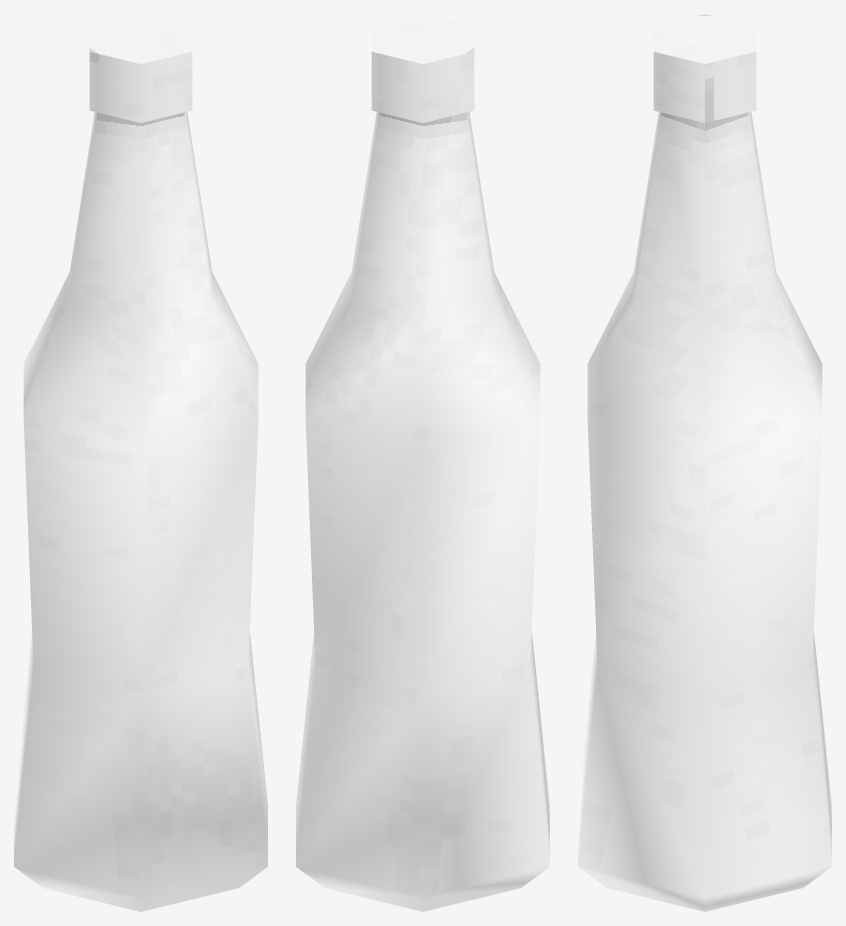
Rendered from SodaBottle.glb.
The picture shows the model from 3 angles, left to right: view 1: azimuth 30°, elevation 25°; view 2: azimuth 150°, elevation 25°; view 3: azimuth 270°, elevation 25°; orthographic projection.
Parts seen in each view (by area): view 1: SodaBottle, SodaBottle.001; view 2: SodaBottle, SodaBottle.001; view 3: SodaBottle, SodaBottle.001.
Part boxes in pixels (bbox=[...]): SodaBottle: bbox=[14, 112, 267, 911]; SodaBottle.001: bbox=[89, 14, 192, 122]; SodaBottle: bbox=[296, 112, 549, 911]; SodaBottle.001: bbox=[371, 14, 474, 122]; SodaBottle: bbox=[578, 112, 831, 911]; SodaBottle.001: bbox=[653, 14, 756, 122].
Size of the model in its own units: 0.075 by 0.2327 by 0.0649.
1 material, 1 textured.
